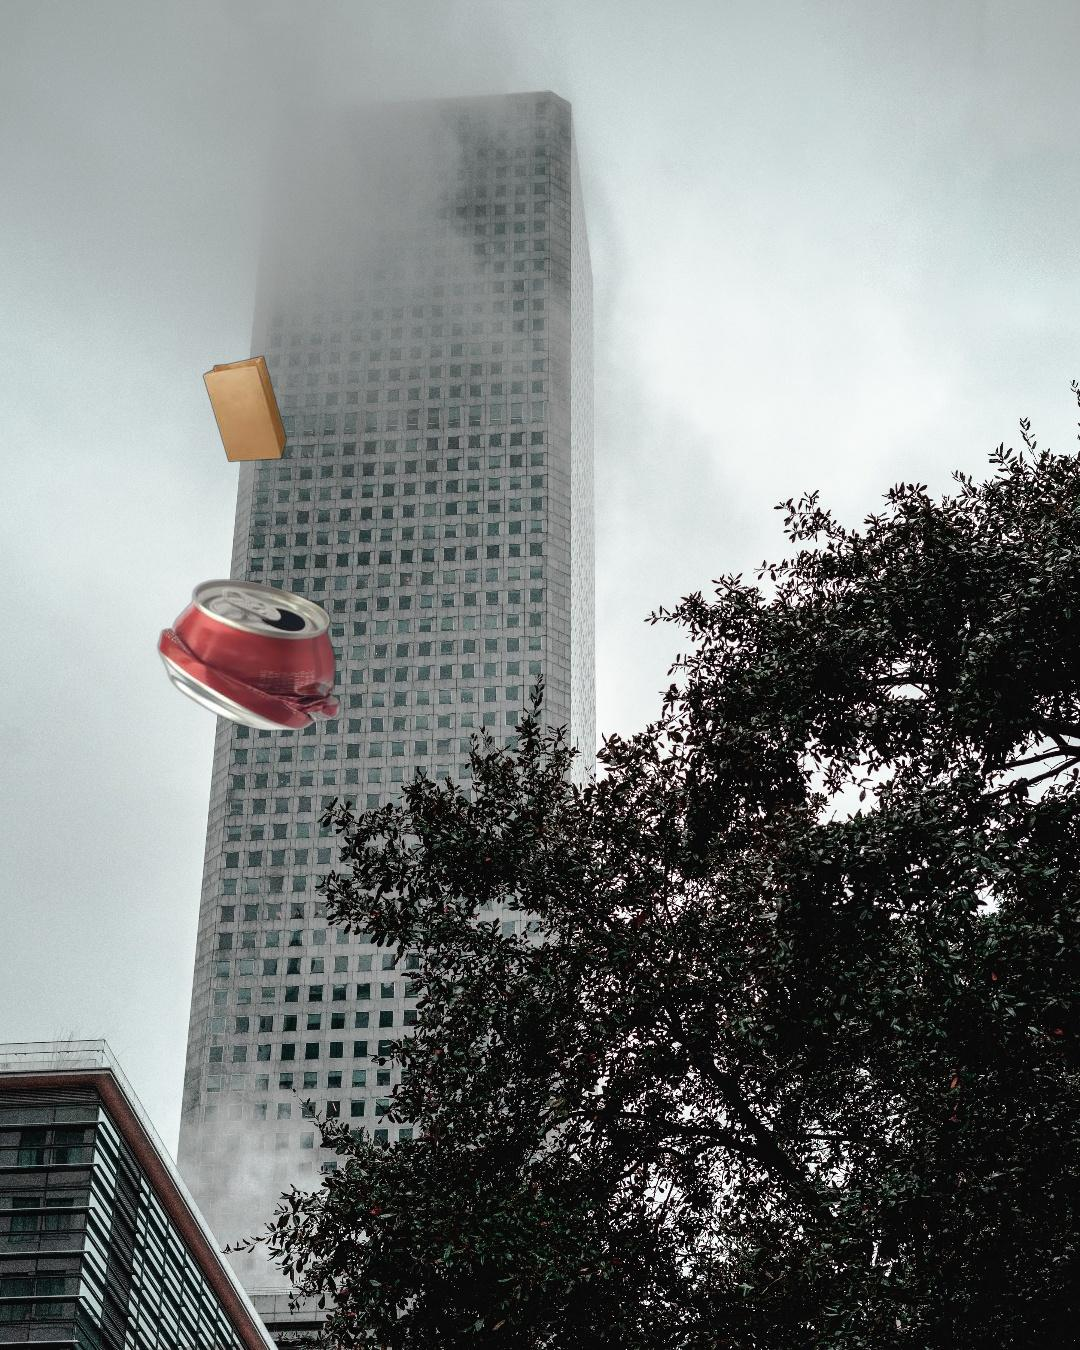metal-cans: (153, 576, 346, 732)
paper-bag: (17, 355, 288, 609)
